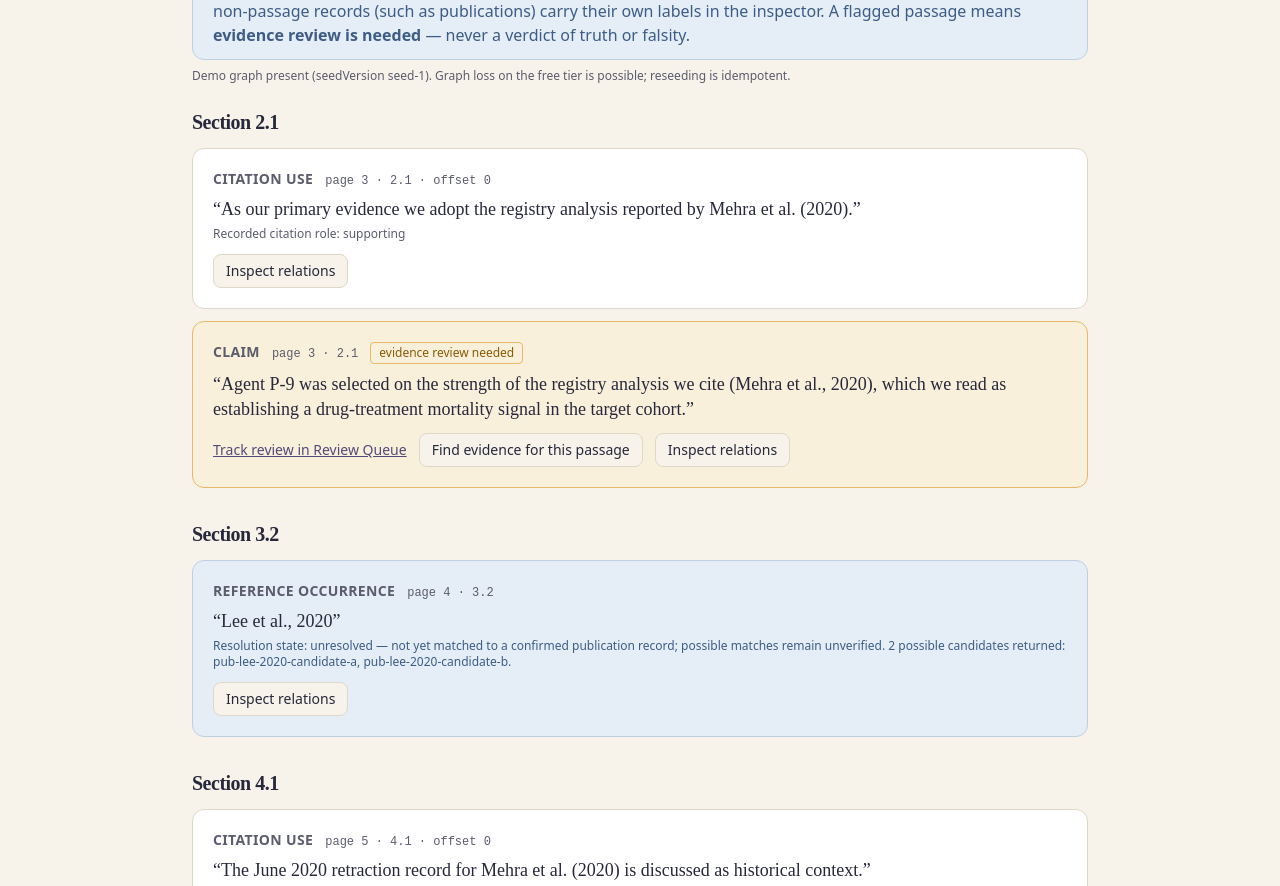
Test: EvidenceReaderPage — wave-2: Find Evidence affordance on flagged passages › opens the Find Evidence panel with claimId = node id and the reader origin label; close returns
(page scrolled)
Click the button with test id "reader-find-evidence-claim-A" at point(531, 450), box [419, 433, 643, 467]
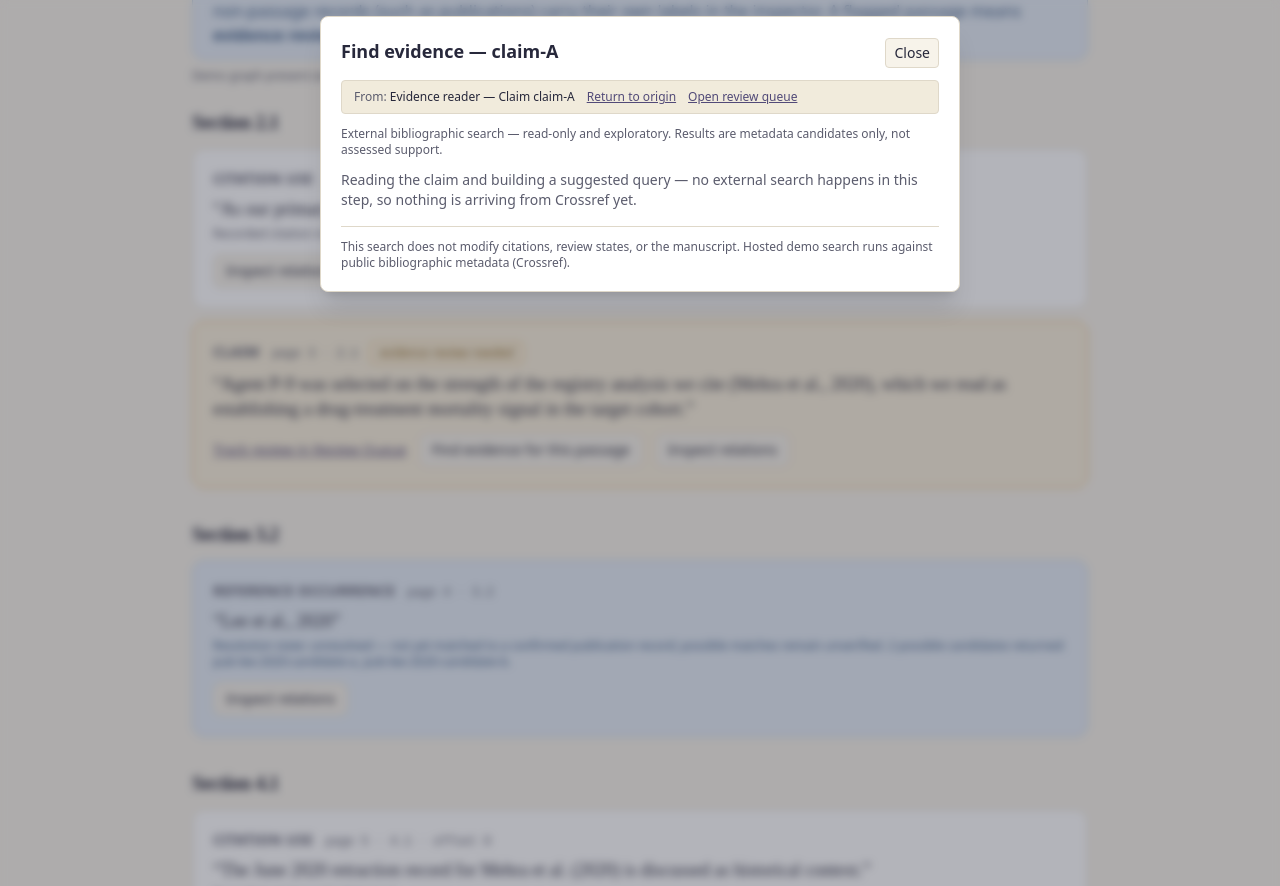
Now the text with test id "find-evidence-origin-label" reads "Evidence reader — Claim claim-A", box [390, 88, 575, 105]
Now the heading "Find evidence — claim-A" is shown, box [341, 37, 558, 65]
Now the heading with id "find-evidence-title" shows "claim-A", box [491, 39, 558, 63]
# Close returns to the reader exactly as it was.
Click the button with test id "find-evidence-close" at point(912, 53), box [886, 38, 939, 68]
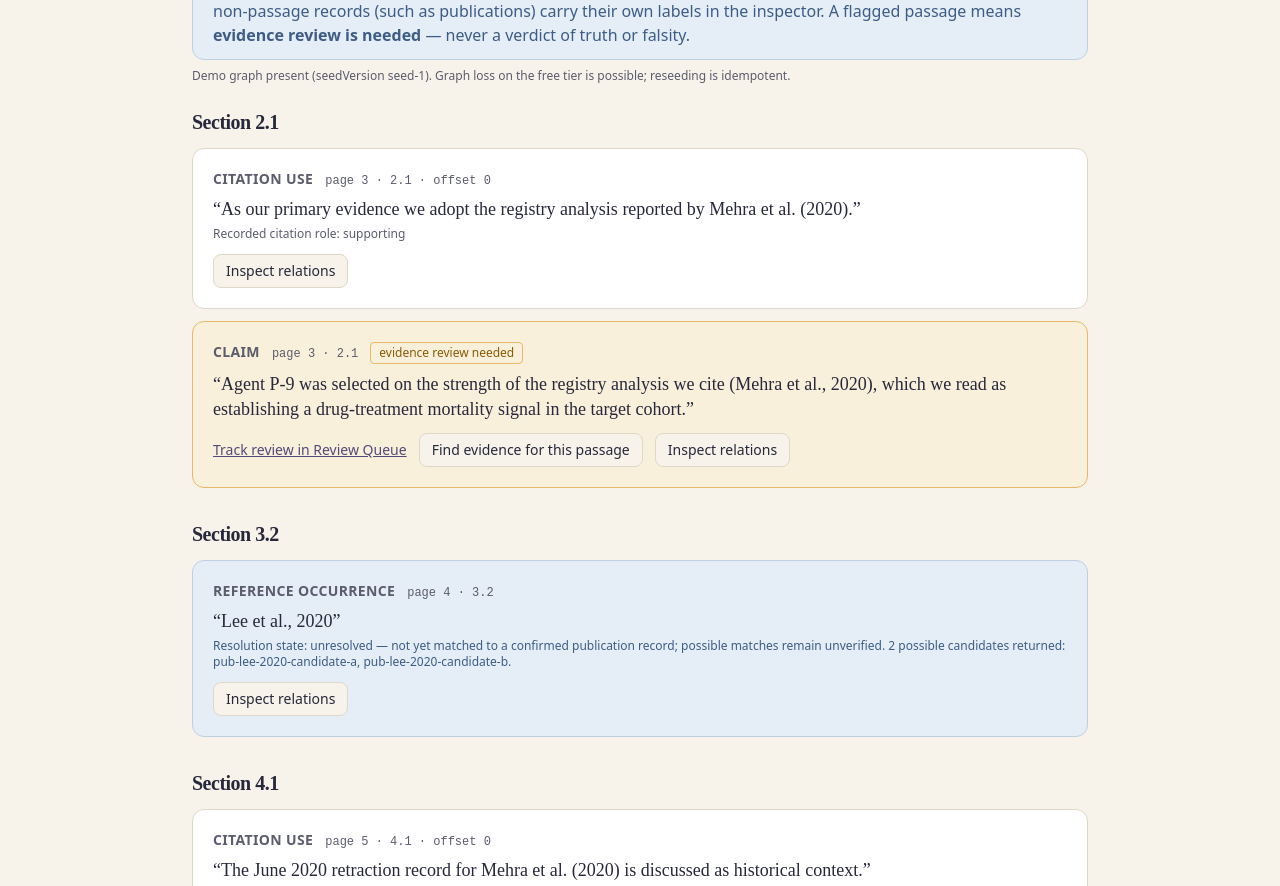
Expected: the element with test id "reader-passage-claim-A" is shown, [192, 321, 1088, 488]
Now the dialog with test id "find-evidence-dialog" is gone
